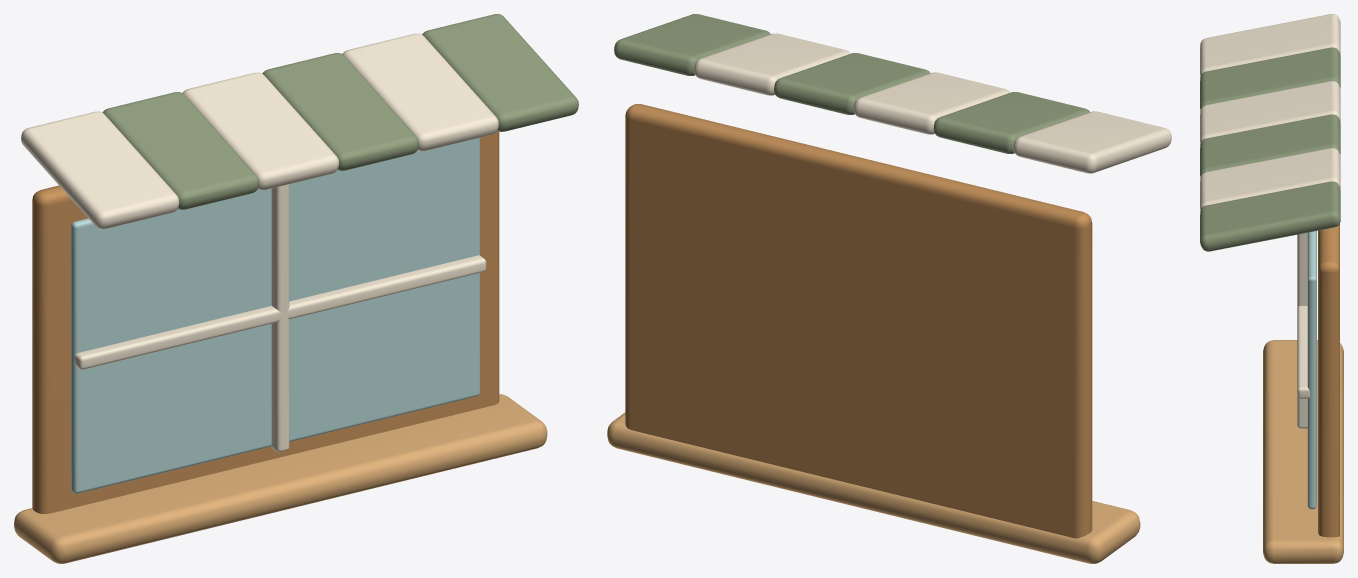
The model's file is window.obj.
The picture shows the model from 3 angles, left to right: view 1: azimuth 30°, elevation 25°; view 2: azimuth 150°, elevation 25°; view 3: azimuth 270°, elevation 25°; orthographic projection. The views are drawn at different scales.
Visible parts, largest first — view 1: window_glass, window_ivory, window_sage, window_oakLight, window_oak; view 2: window_oak, window_ivory, window_sage, window_oakLight; view 3: window_ivory, window_sage, window_oakLight, window_oak, window_glass.
Boxes of the visible parts, x1,y1,x2,y2 form: window_glass: (71,138,479,493); window_ivory: (21,33,498,452); window_sage: (102,14,578,209); window_oakLight: (14,394,547,563); window_oak: (32,131,499,513); window_oak: (625,104,1092,538); window_ivory: (694,33,1171,173); window_sage: (614,14,1089,153); window_oakLight: (607,412,1140,563); window_ivory: (1200,14,1340,428); window_sage: (1200,47,1340,251); window_oakLight: (1263,340,1343,563); window_oak: (1318,223,1339,537); window_glass: (1307,231,1316,509).
Bounding box in the file's own units: 1.34 × 1.06 × 0.3915.
